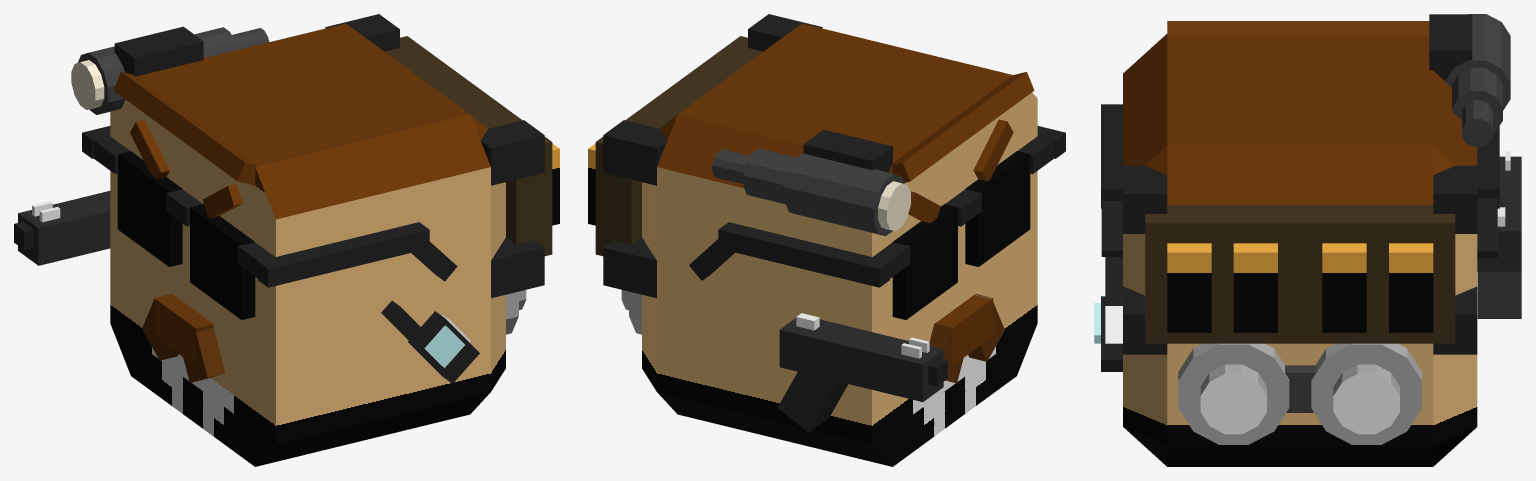
File: playerPistol.gltf
The picture shows the model from 3 angles, left to right: view 1: azimuth 30°, elevation 25°; view 2: azimuth 150°, elevation 25°; view 3: azimuth 270°, elevation 25°; orthographic projection. The views are drawn at different scales.
Visible parts, largest first — view 1: beveled_cuboid, cube; view 2: beveled_cuboid, cube; view 3: beveled_cuboid, cube.
Part boxes in pixels (<box>): beveled_cuboid: <box>71,14,559,466</box>; cube: <box>14,191,110,265</box>; beveled_cuboid: <box>588,14,1065,466</box>; cube: <box>777,313,947,432</box>; beveled_cuboid: <box>1094,14,1510,466</box>; cube: <box>1477,151,1521,318</box>.
Size of the model in its own units: 1.34 by 1.06 by 1.21.
4 materials, 4 textured.
